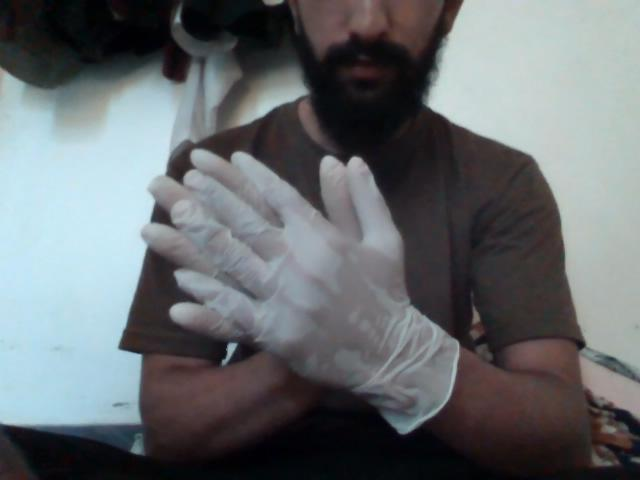gloves: (141, 97, 470, 427)
